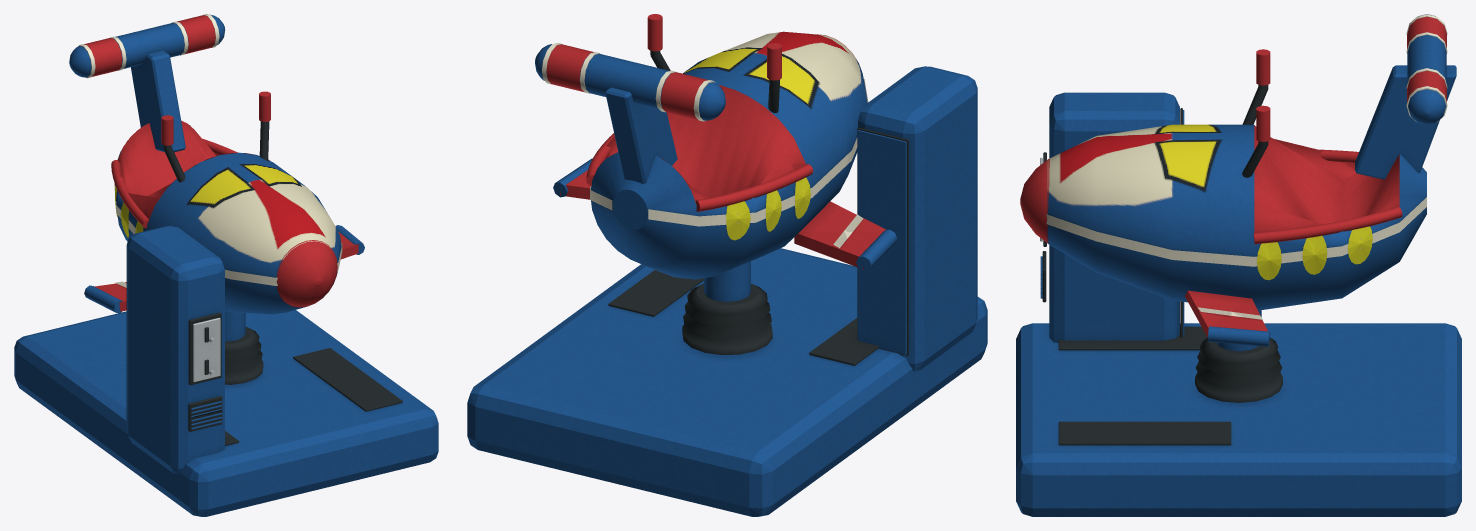
Rendered from mall_rocket_ride.glb.
3 views of the same model, side by side, from view 1: azimuth 30°, elevation 25°; view 2: azimuth 150°, elevation 25°; view 3: azimuth 270°, elevation 25° (orthographic). The views are drawn at different scales.
Visible parts, largest first — view 1: mall_rocket_ride_Body; view 2: mall_rocket_ride_Body; view 3: mall_rocket_ride_Body.
Boxes of the visible parts, <box> form: mall_rocket_ride_Body: <box>14,14,438,516</box>; mall_rocket_ride_Body: <box>467,14,987,516</box>; mall_rocket_ride_Body: <box>1016,14,1461,516</box>.
Bounding box in the file's own units: 1.17 × 1.46 × 1.47.
Materials: 1 (1 with a texture image).
